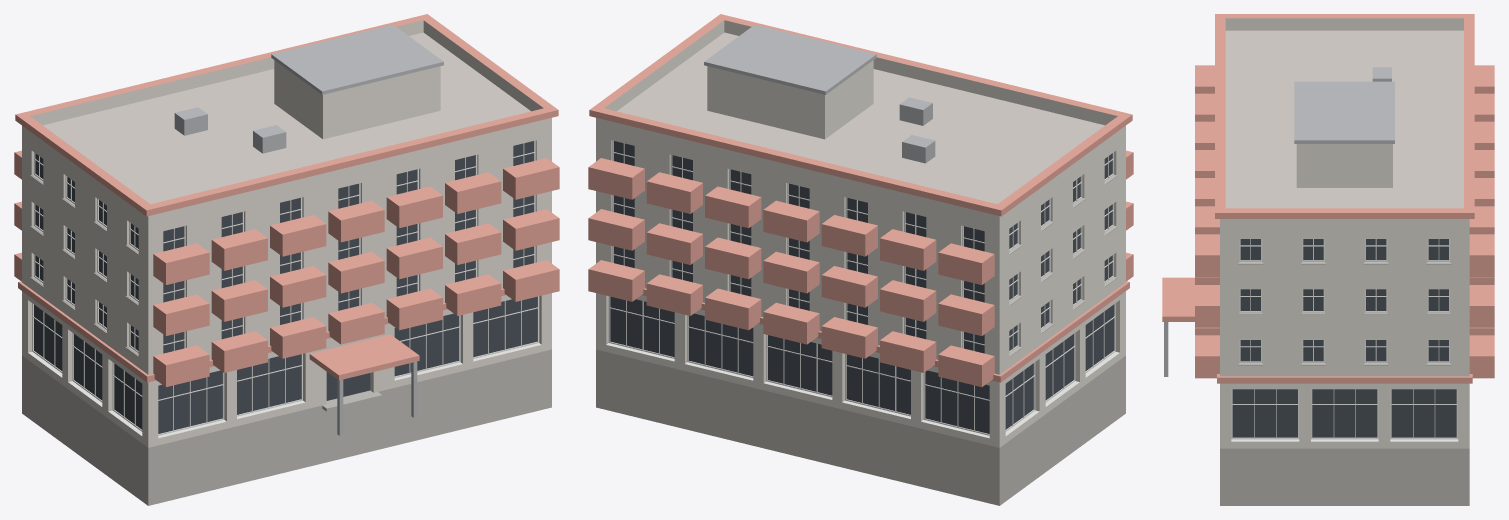
Rendered from hotel_4_m.glb.
3 renders of one model, left to right at view 1: azimuth 30°, elevation 25°; view 2: azimuth 150°, elevation 25°; view 3: azimuth 270°, elevation 25°, orthographic.
Parts seen in each view (by area): view 1: hotel_4_m; view 2: hotel_4_m; view 3: hotel_4_m.
Part boxes in pixels (bbox=[...]): hotel_4_m: bbox=[14, 14, 559, 505]; hotel_4_m: bbox=[588, 14, 1133, 505]; hotel_4_m: bbox=[1162, 14, 1494, 505].
Size of the model in its own units: 24.5 by 19.05 by 17.3.
